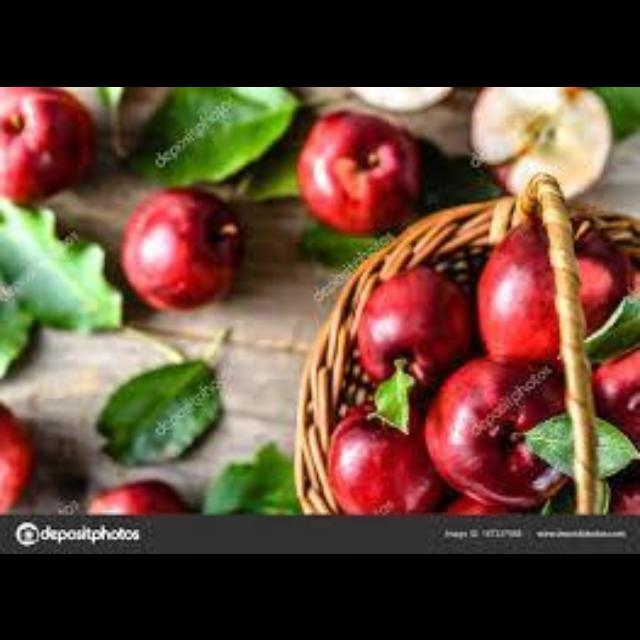apple: (423, 356, 565, 507), (470, 86, 611, 196), (297, 110, 419, 232), (122, 186, 241, 307), (358, 264, 470, 385), (329, 402, 443, 512), (477, 215, 557, 359), (0, 86, 92, 200), (574, 222, 630, 332)
